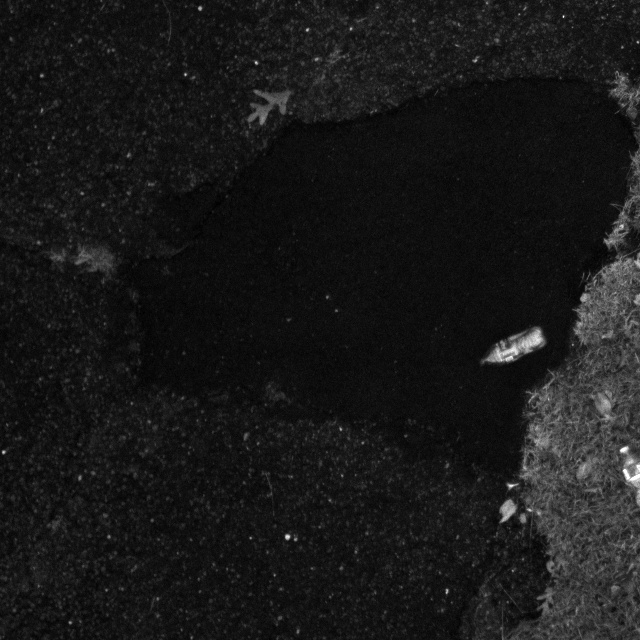bottle: (470, 322, 547, 382)
